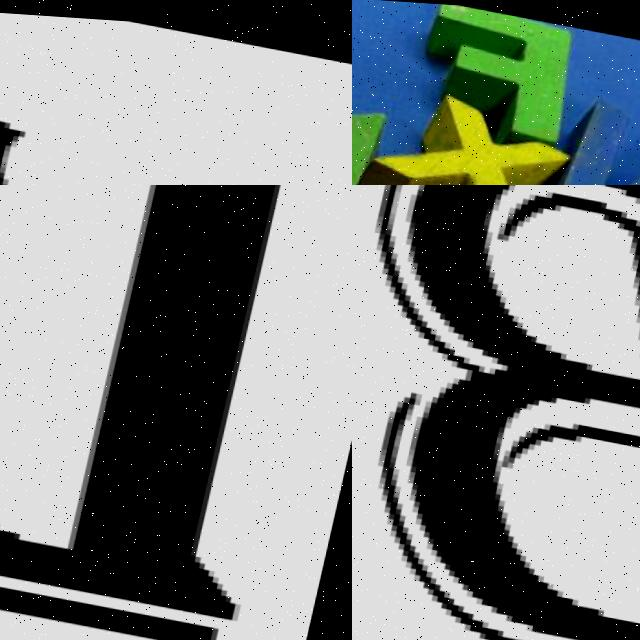B: (376, 185, 640, 640)
F: (417, 0, 591, 142)
L: (0, 185, 352, 640)
V: (530, 80, 640, 185)
X: (352, 67, 583, 185)
